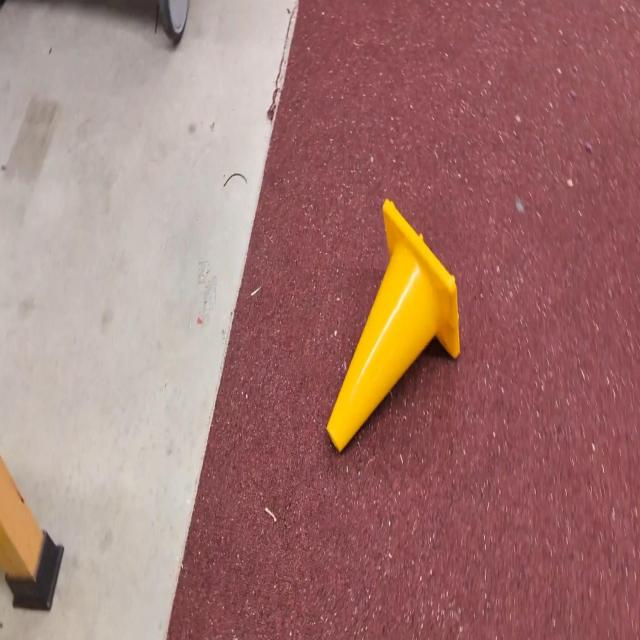frc_cone: (326, 196, 461, 452)
